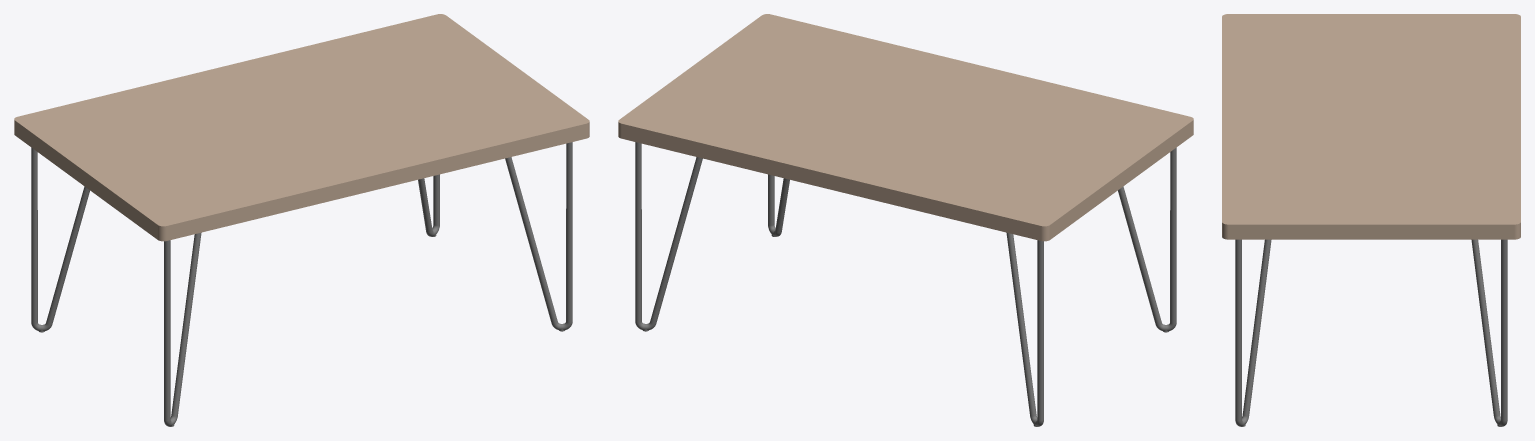
Rendered from 560_ダイニングテーブル4人掛け.glb.
The picture shows the model from 3 angles, left to right: view 1: azimuth 30°, elevation 25°; view 2: azimuth 150°, elevation 25°; view 3: azimuth 270°, elevation 25°; orthographic projection.
Parts seen in each view (by area): view 1: Body; view 2: Body; view 3: Body.
Part boxes in pixels (x1,y1,x2,y2): Body: (14,14,589,426); Body: (618,14,1193,426); Body: (1222,14,1520,426).
Size of the model in its own units: 1.5 by 0.7 by 0.9.
